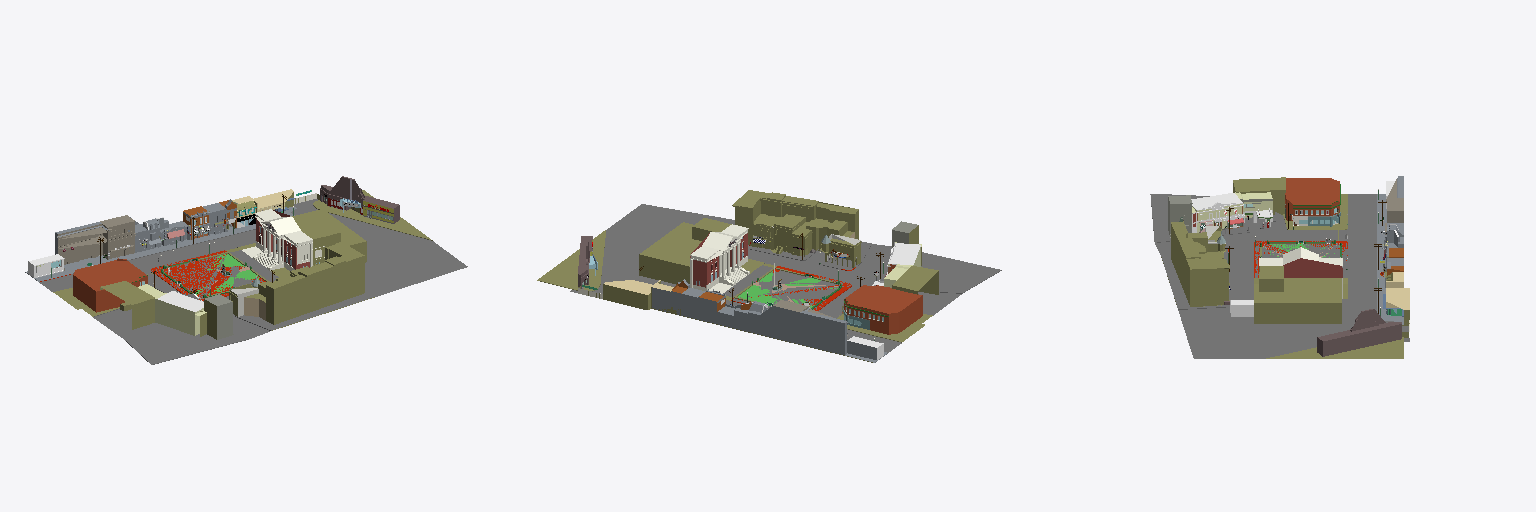
The picture shows the model from 3 angles: view 1: azimuth 30°, elevation 25°; view 2: azimuth 150°, elevation 25°; view 3: azimuth 270°, elevation 25°; orthographic projection.
Parts seen in each view (by area): view 1: Mesh263 Model, Mesh13 Group5 Model, Mesh156 Group35 Model, Mesh94 Group25 Model, Mesh189 Group45 Model, Mesh58 Group23 Model; view 2: Mesh263 Model, Mesh13 Group5 Model, Mesh156 Group35 Model, Mesh94 Group25 Model, Mesh189 Group45 Model, Mesh58 Group23 Model; view 3: Mesh263 Model, Mesh13 Group5 Model, Mesh189 Group45 Model, Mesh58 Group23 Model, Mesh94 Group25 Model, Mesh156 Group35 Model.
Boxes of the visible parts, box(x1,y1,x2,y2) form: Mesh263 Model: box(34, 190, 467, 364); Mesh13 Group5 Model: box(229, 242, 374, 330); Mesh156 Group35 Model: box(25, 215, 190, 280); Mesh94 Group25 Model: box(178, 189, 311, 241); Mesh189 Group45 Model: box(73, 258, 147, 312); Mesh58 Group23 Model: box(301, 176, 399, 223); Mesh263 Model: box(537, 204, 1001, 362); Mesh13 Group5 Model: box(732, 190, 871, 270); Mesh156 Group35 Model: box(717, 300, 887, 362); Mesh94 Group25 Model: box(582, 279, 730, 323); Mesh189 Group45 Model: box(843, 285, 922, 334); Mesh58 Group23 Model: box(540, 236, 600, 296); Mesh263 Model: box(1150, 177, 1408, 358); Mesh13 Group5 Model: box(1161, 221, 1233, 309); Mesh189 Group45 Model: box(1285, 178, 1340, 226); Mesh58 Group23 Model: box(1317, 309, 1409, 356); Mesh94 Group25 Model: box(1383, 247, 1409, 325); Mesh156 Group35 Model: box(1384, 176, 1403, 253).
Bounding box in the file's own units: 42.47 × 4.96 × 28.17.
Materials: 198 (96 with a texture image).